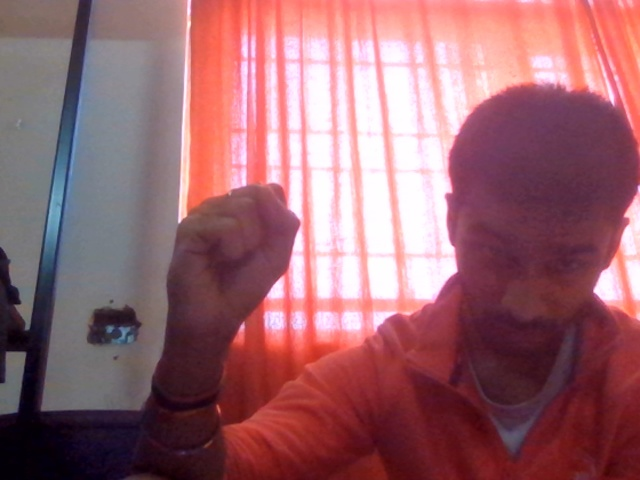S: (145, 167, 355, 384)
